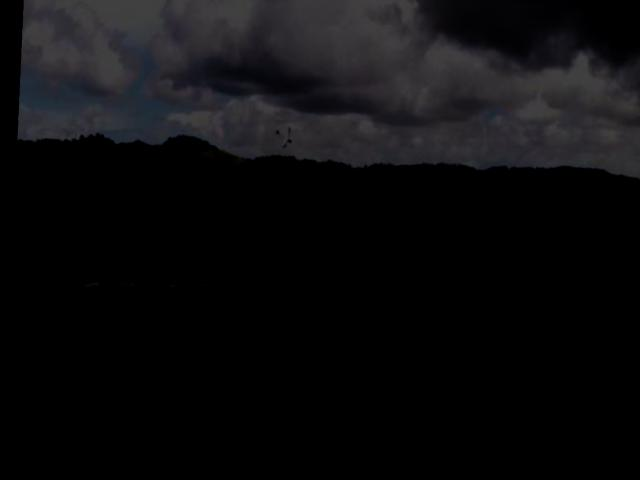iha: (269, 133, 293, 160)
